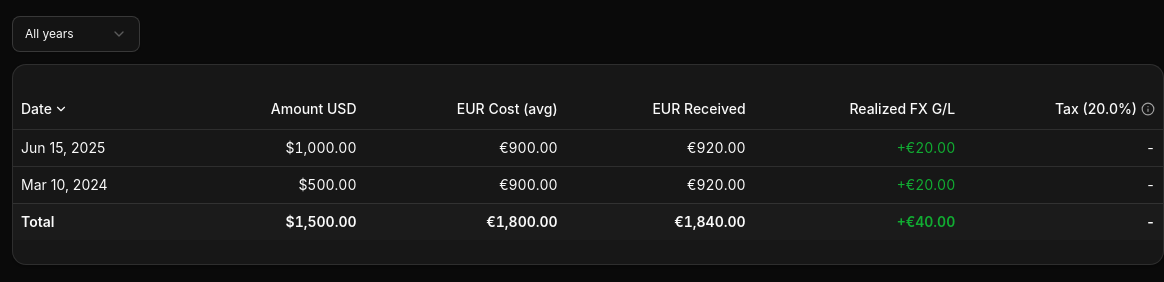
Test: WithdrawalsTable › filters by year when multiple years present
Note: Year filter should be visible
Click the dropdown at (76, 34), box [12,16,140,52]
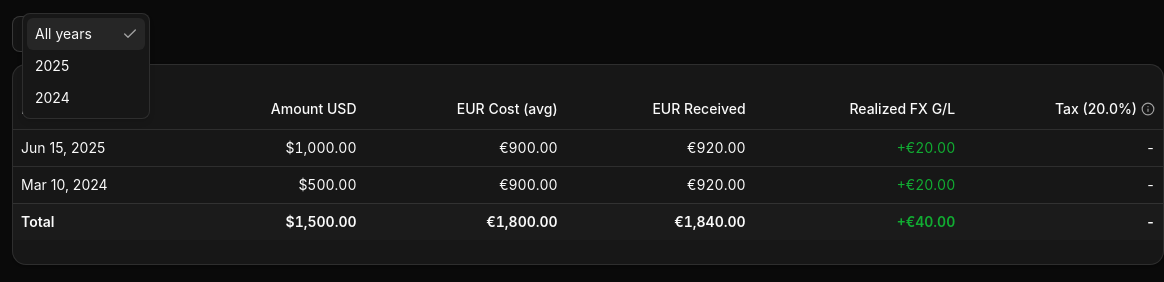
Click the option "2024" at (52, 98), box [35,89,70,106]
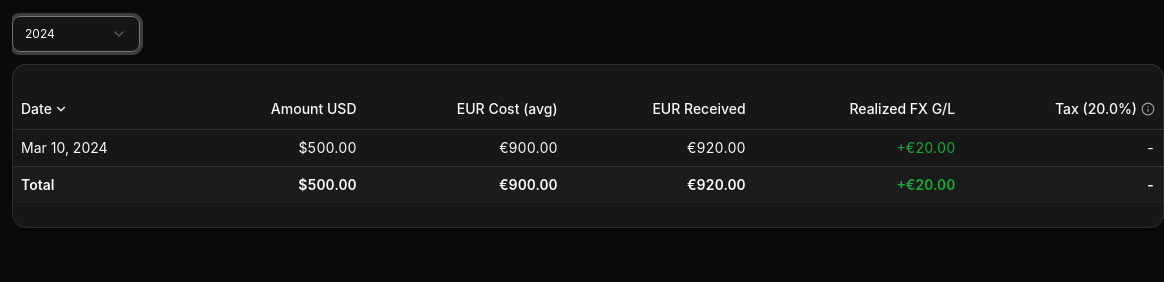
Expected: the text "$1,000.00" is gone
